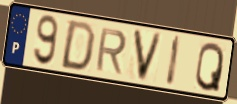9: (32, 13, 61, 68)
D: (58, 18, 98, 73)
I: (164, 33, 183, 89)
Q: (193, 41, 226, 94)
R: (93, 26, 129, 76)
V: (131, 27, 165, 84)
